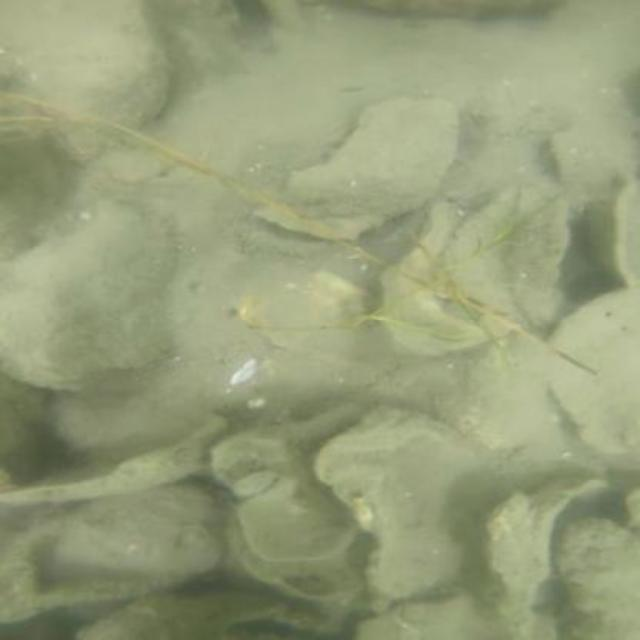Oyster-Closed: (311, 400, 476, 608), (0, 202, 177, 390), (252, 93, 460, 242), (21, 2, 170, 167), (49, 482, 231, 574), (556, 519, 638, 638)
